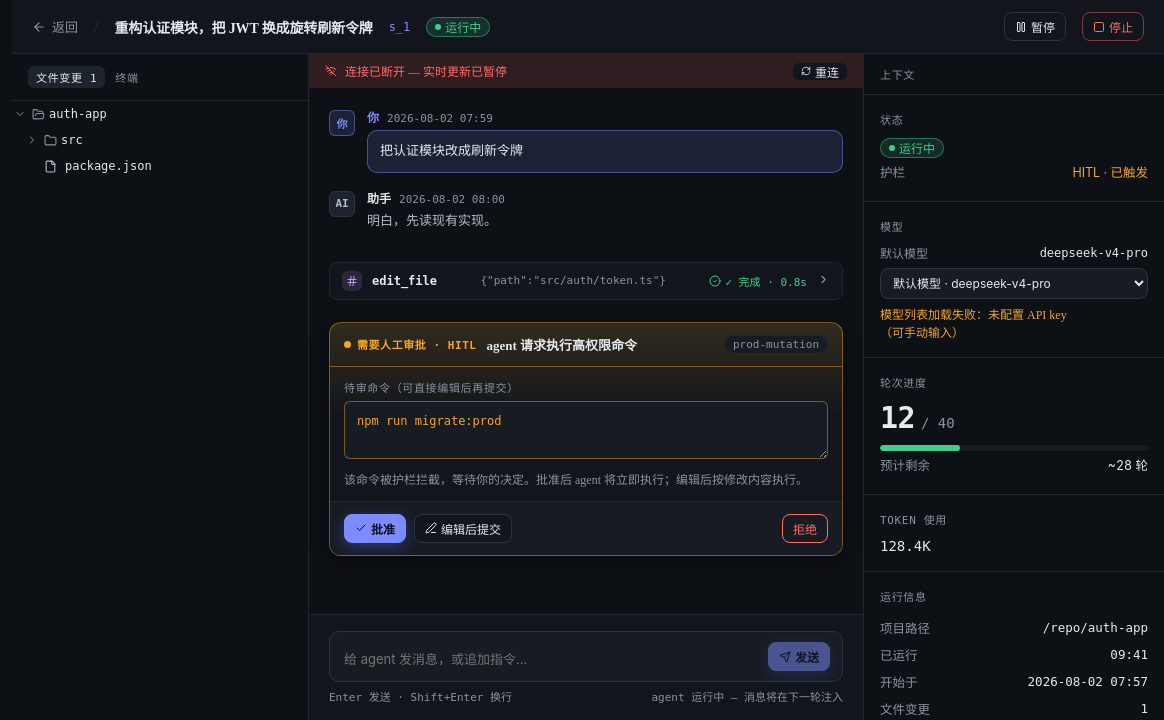
Test: SessionDetail › submits a modified command through the inline editor
Expected: the text "把认证模块改成刷新令牌" is shown, top-left (367, 130), bottom-right (843, 173)
Expected: the text "需要人工审批 · HITL" is shown, top-left (344, 336), bottom-right (476, 352)
Click the button "编辑后提交": (463,528) top-left (414, 514), bottom-right (512, 543)
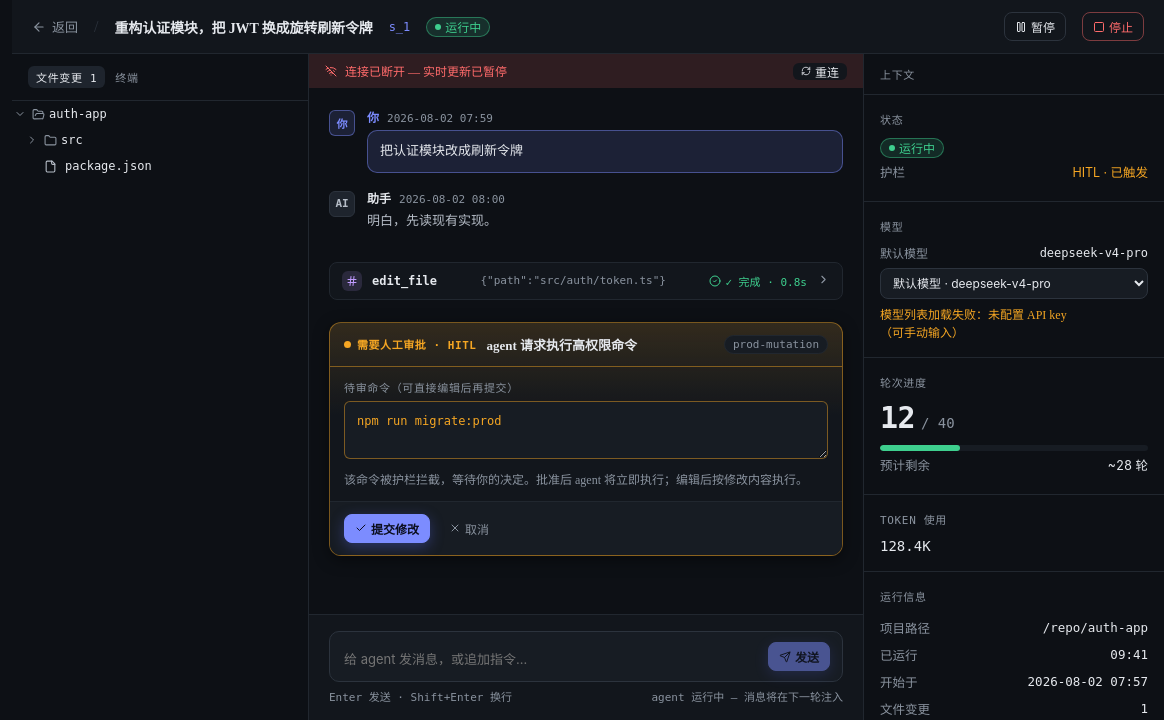
Replace the text in the text box named "修改后的命令" with "npm run migrate:prod -- --dry-run": (586,430) top-left (344, 401), bottom-right (828, 459)
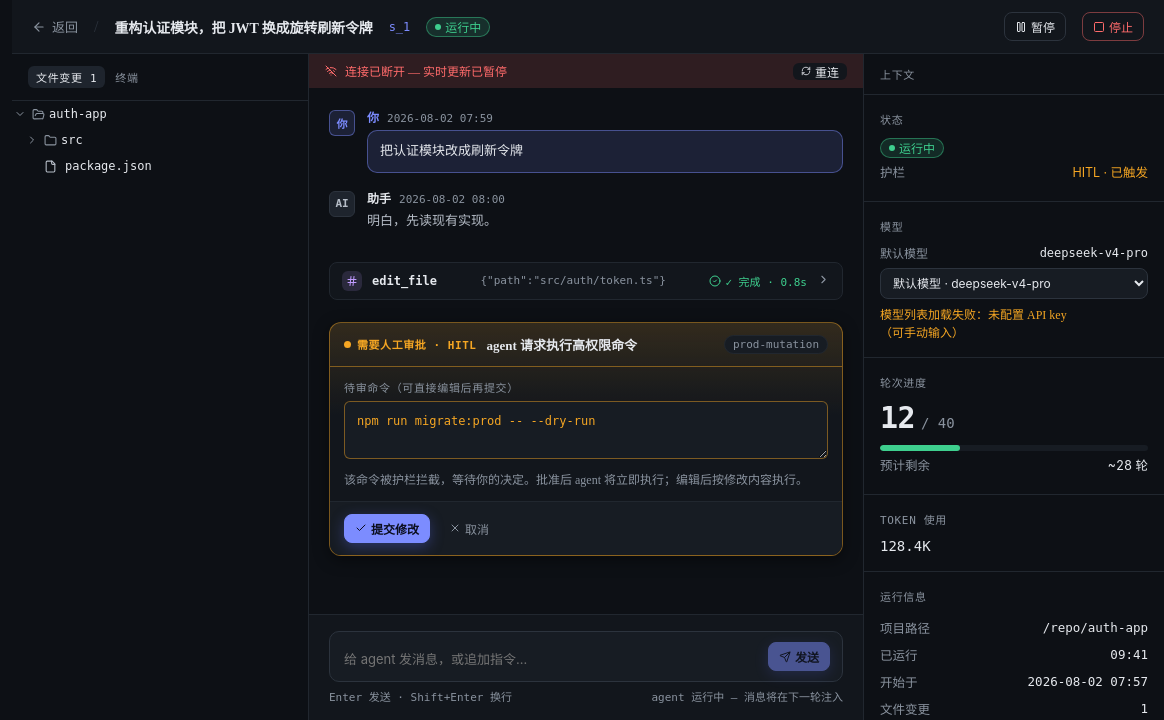
Click the button "提交修改": (387,528) top-left (344, 514), bottom-right (430, 543)
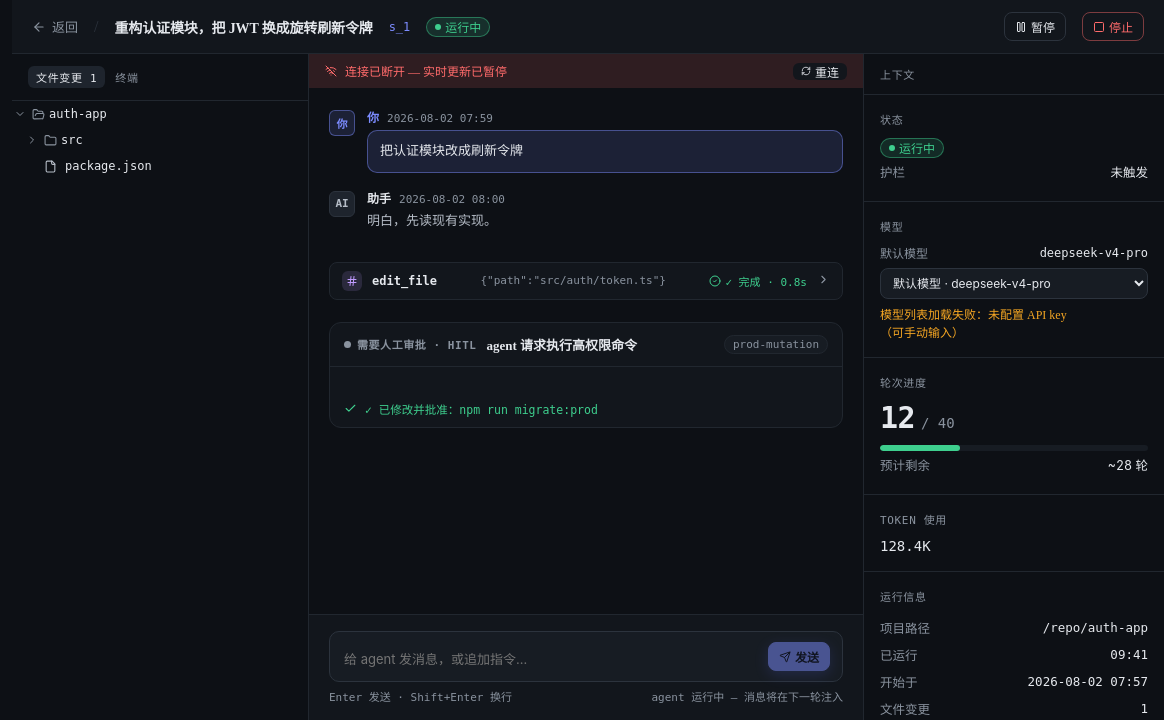
Now the text "✓ 已修改并批准：npm run migrate:prod" is shown, box top-left (365, 401), bottom-right (598, 417)
